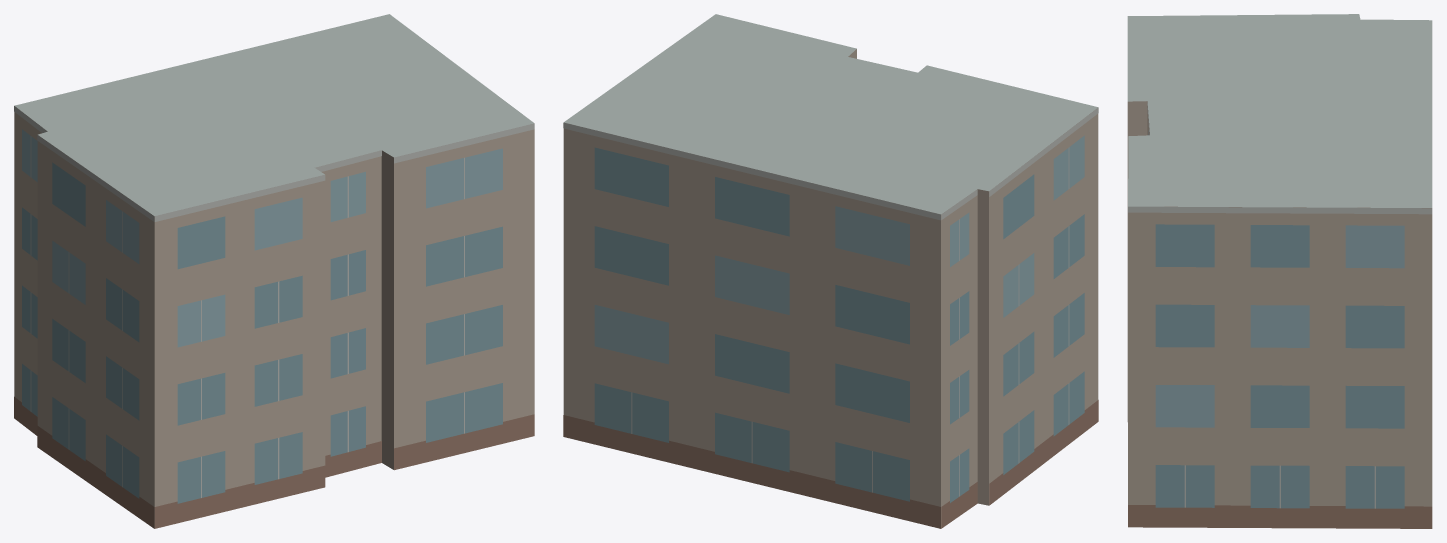
The model's file is survey-upis-32814264.glb.
The picture shows the model from 3 angles, left to right: view 1: azimuth 30°, elevation 25°; view 2: azimuth 150°, elevation 25°; view 3: azimuth 270°, elevation 25°; orthographic projection. The views are drawn at different scales.
Visible parts, largest first — view 1: survey-upis-32814264.tmp; view 2: survey-upis-32814264.tmp; view 3: survey-upis-32814264.tmp.
Part boxes in pixels (left/top/right/bottom): survey-upis-32814264.tmp: left=14, top=14, right=534, bottom=528; survey-upis-32814264.tmp: left=563, top=14, right=1098, bottom=528; survey-upis-32814264.tmp: left=1127, top=14, right=1432, bottom=528.
Bounding box in the file's own units: 16.62 × 12.8 × 11.04.
